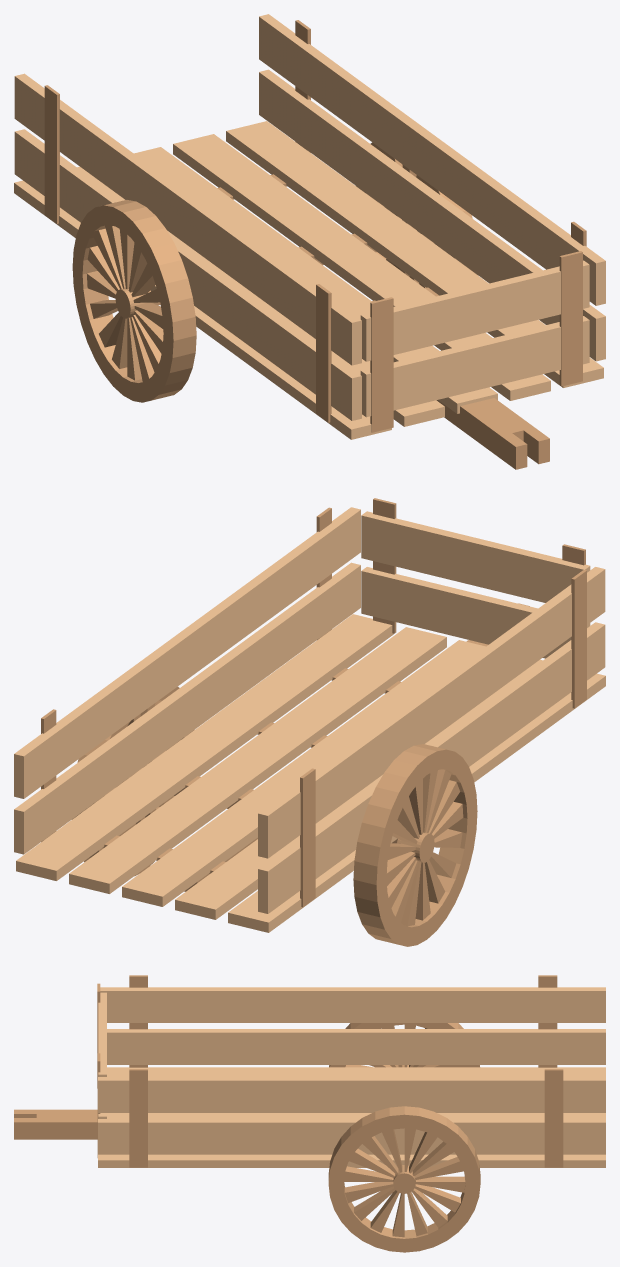
Rendered from WoodenCart.fbx.
3 renders of one model, top to bottom at view 1: azimuth 30°, elevation 25°; view 2: azimuth 150°, elevation 25°; view 3: azimuth 270°, elevation 25°, orthographic. The views are drawn at different scales.
Visible parts, largest first — view 1: Cube, Cube.002, Cube.001, Circle, Cube.003, Cube.015, Cube.009, Cube.008, Cube.004, Cube.005, Circle.001; view 2: Cube, Cube.002, Cube.001, Circle, Cube.003, Cube.004, Cube.005, Cube.008, Circle.001; view 3: Cube.001, Cube.002, Circle.001, Cube, Cube.015, Cube.007, Cube.006, Circle, Cube.003, Cube.004, Cube.005.
Part boxes in pixels (x1=…): Cube: x1=14, y1=121, x2=603, y2=439; Cube.002: x1=259, y1=14, x2=605, y2=361; Cube.001: x1=14, y1=73, x2=361, y2=420; Circle: x1=72, y1=200, x2=196, y2=402; Cube.003: x1=360, y1=260, x2=589, y2=417; Cube.015: x1=436, y1=398, x2=549, y2=469; Cube.009: x1=370, y1=297, x2=393, y2=432; Cube.008: x1=559, y1=251, x2=582, y2=386; Cube.004: x1=44, y1=85, x2=59, y2=223; Cube.005: x1=316, y1=284, x2=331, y2=422; Circle.001: x1=356, y1=142, x2=477, y2=287; Cube: x1=16, y1=614, x2=605, y2=932; Cube.002: x1=14, y1=507, x2=360, y2=854; Cube.001: x1=258, y1=567, x2=605, y2=913; Circle: x1=353, y1=744, x2=477, y2=946; Cube.003: x1=361, y1=511, x2=590, y2=658; Cube.004: x1=300, y1=768, x2=315, y2=907; Cube.005: x1=571, y1=570, x2=586, y2=708; Cube.008: x1=373, y1=498, x2=396, y2=633; Circle.001: x1=72, y1=686, x2=193, y2=876; Cube.001: x1=100, y1=987, x2=605, y2=1064; Cube.002: x1=98, y1=1077, x2=605, y2=1154; Circle.001: x1=328, y1=1106, x2=480, y2=1252; Cube: x1=98, y1=1067, x2=605, y2=1167; Cube.015: x1=14, y1=1109, x2=97, y2=1139; Cube.007: x1=544, y1=1069, x2=563, y2=1167; Cube.006: x1=129, y1=1069, x2=147, y2=1167; Circle: x1=329, y1=1023, x2=479, y2=1067; Cube.003: x1=98, y1=992, x2=106, y2=1118; Cube.004: x1=538, y1=975, x2=557, y2=1067; Cube.005: x1=129, y1=975, x2=147, y2=1067.
Size of the model in its own units: 246 by 177 by 549.
